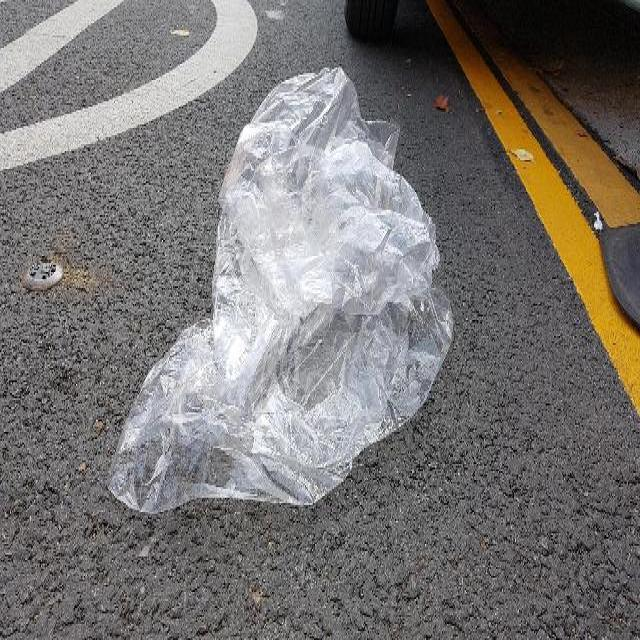plastic bag: (106, 58, 457, 522)
